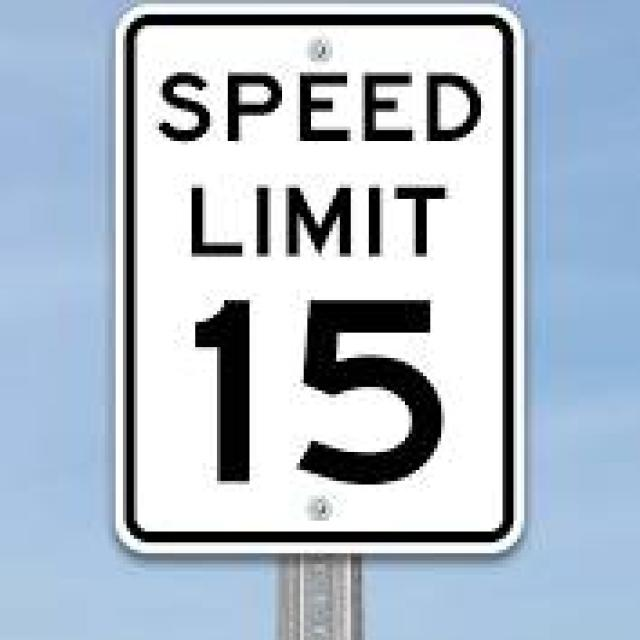speedLimit15: (110, 13, 541, 577)
